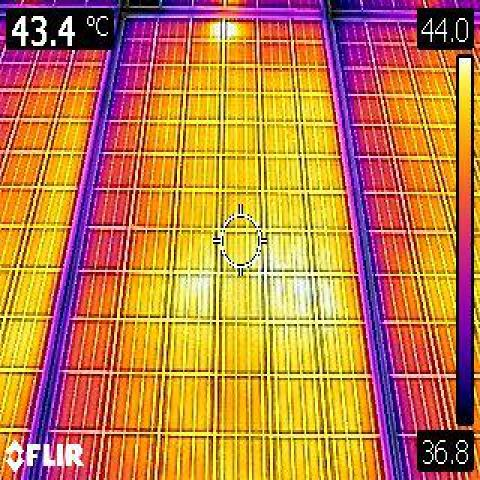fault: (177, 267, 218, 298), (211, 15, 245, 46)
